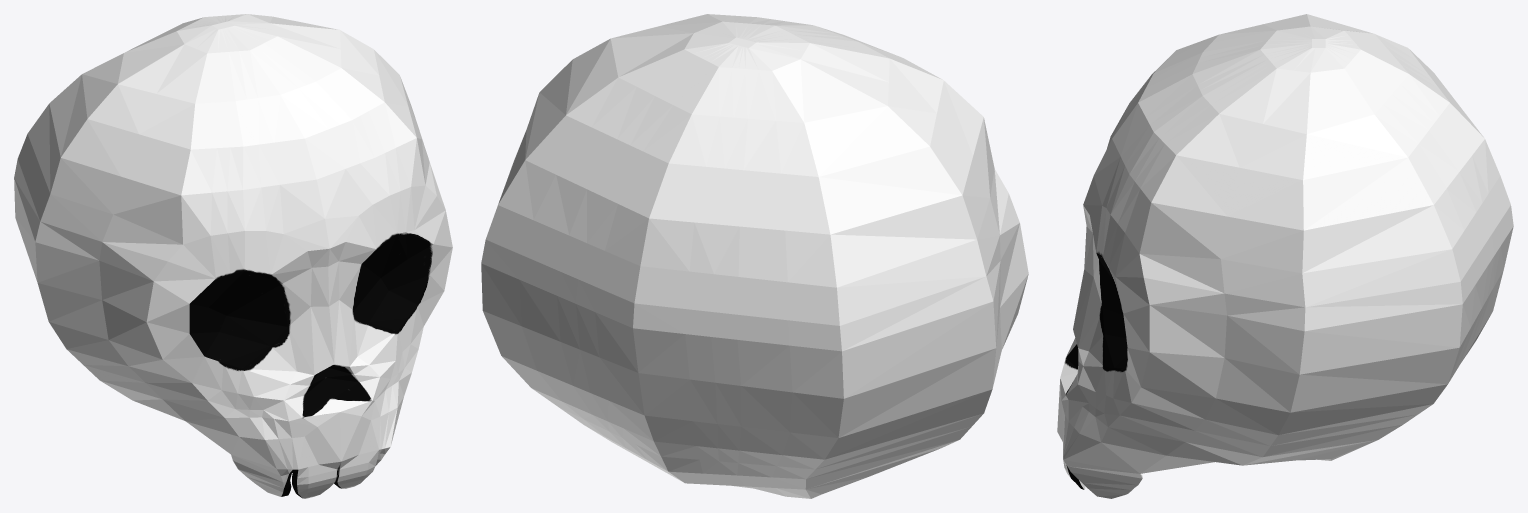
File: MrSkully_skull.fbx
The picture shows the model from 3 angles, left to right: view 1: azimuth 30°, elevation 25°; view 2: azimuth 150°, elevation 25°; view 3: azimuth 270°, elevation 25°; orthographic projection. The views are drawn at different scales.
Visible parts, largest first — view 1: Cube; view 2: Cube; view 3: Cube.
Part boxes in pixels (x1,y1,x2,y2): Cube: (14,14,452,498); Cube: (481,14,1028,498); Cube: (1057,14,1513,498).
Size of the model in its own units: 302 by 289 by 277.
1 material, 1 textured.
